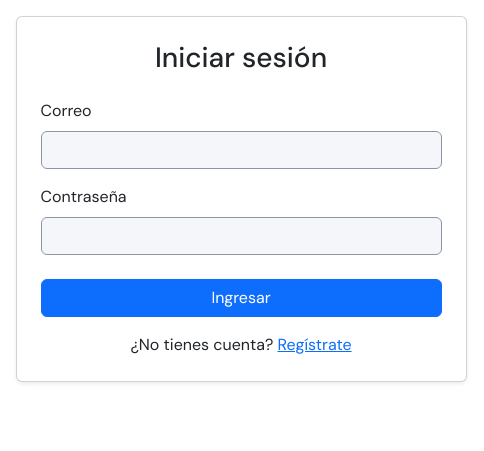
Login › muestra errores si se envía vacío
This screenshot has width=484, height=451.
Click the button "Ingresar": (241, 298) [40,279,442,317]
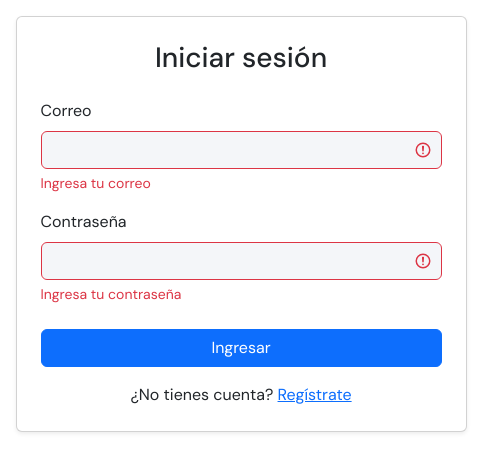
Check: the text "Ingresa tu correo" is shown, box [40,174,151,192]
Check: the text "Ingresa tu contraseña" is shown, box [40,285,181,303]
